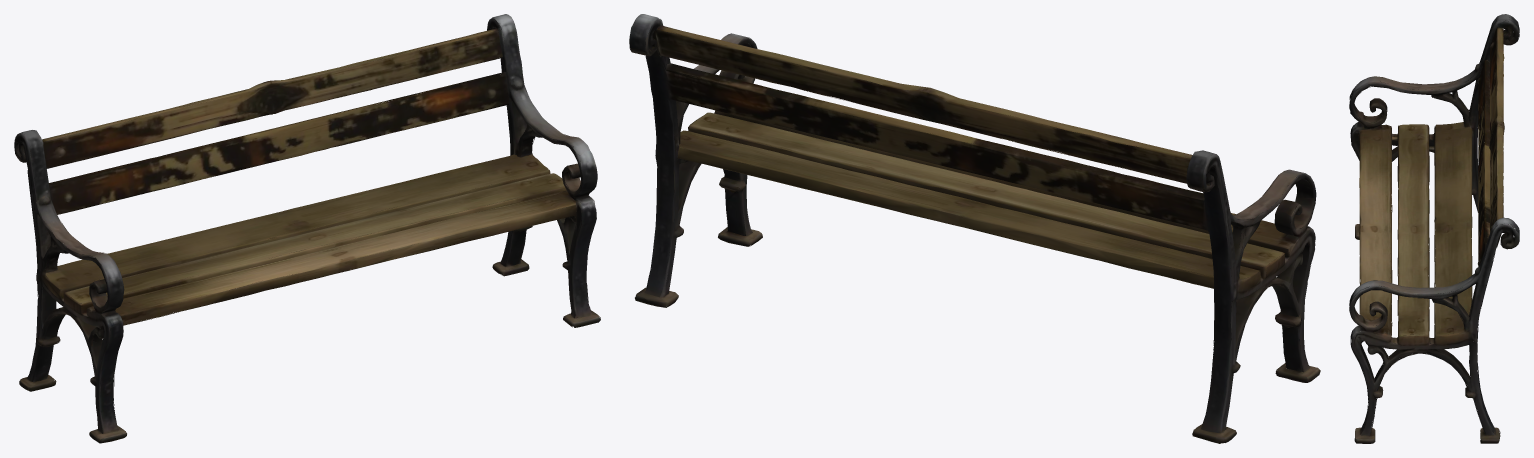
File: banco_plaza_1905.glb
3 renders of one model, left to right at view 1: azimuth 30°, elevation 25°; view 2: azimuth 150°, elevation 25°; view 3: azimuth 270°, elevation 25°, orthographic. The views are drawn at different scales.
Visible parts, largest first — view 1: geometry_0; view 2: geometry_0; view 3: geometry_0.
Boxes of the visible parts, x1,y1,x2,y2 form: geometry_0: (14, 14, 600, 443); geometry_0: (629, 14, 1320, 443); geometry_0: (1349, 14, 1519, 443).
Bounding box in the file's own units: 1.8 × 0.8505 × 0.5996.
1 material, 1 textured.
